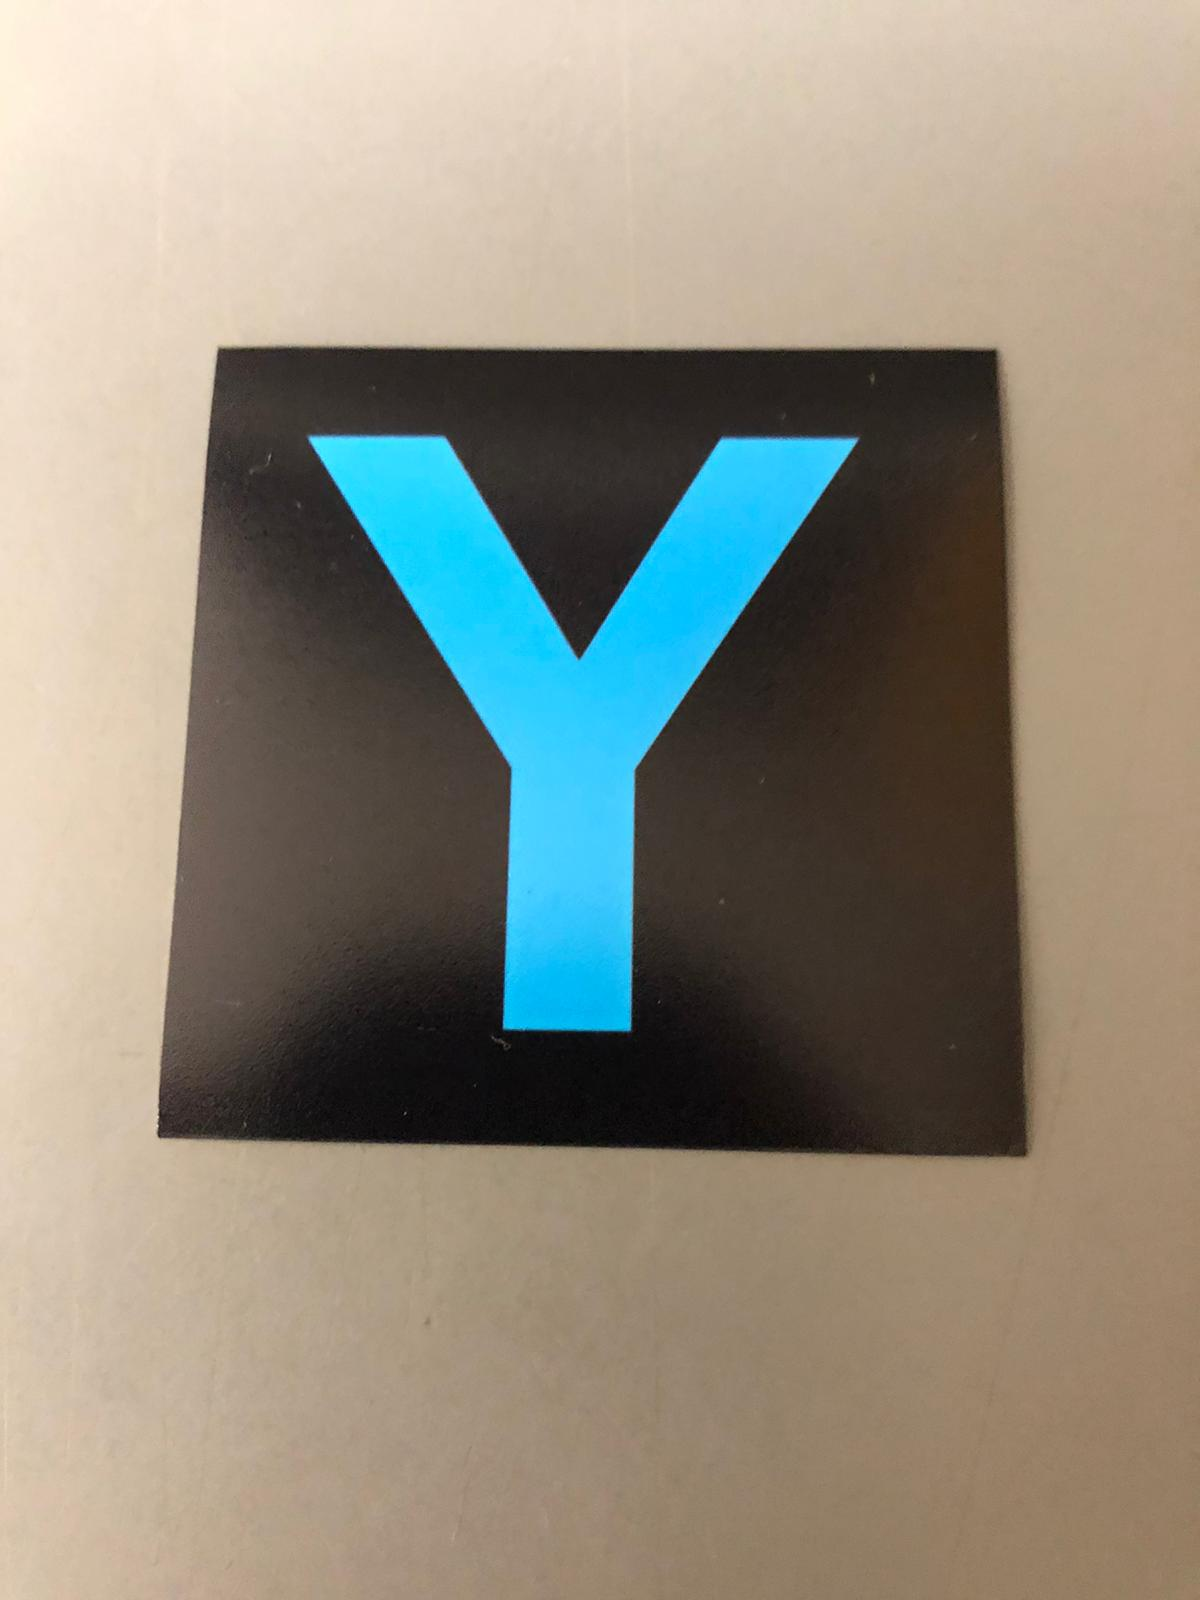Y: (231, 363, 948, 1125)
